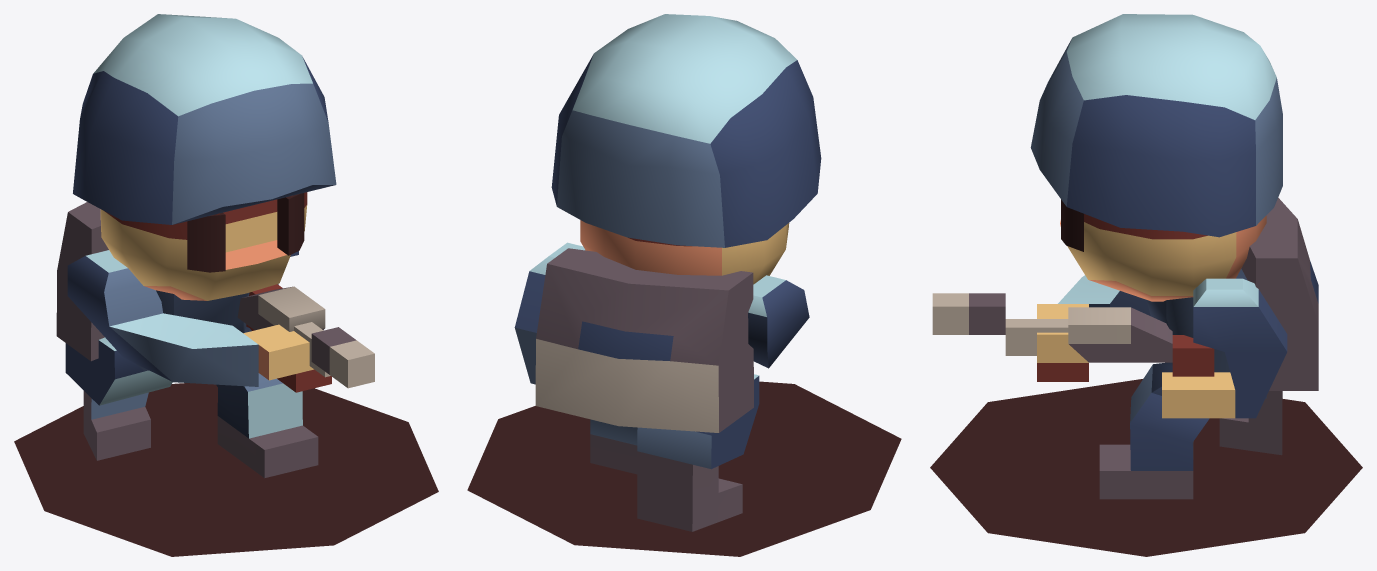
The model's file is InfantryMesh.SilverClaw.glb.
3 views of the same model, side by side, from view 1: azimuth 30°, elevation 25°; view 2: azimuth 150°, elevation 25°; view 3: azimuth 270°, elevation 25° (orthographic). The views are drawn at different scales.
Parts seen in each view (by area): view 1: InfantryMesh.SilverClaw; view 2: InfantryMesh.SilverClaw; view 3: InfantryMesh.SilverClaw.
Part boxes in pixels (x1,y1,x2,y2): InfantryMesh.SilverClaw: (14,14,438,556); InfantryMesh.SilverClaw: (467,14,901,556); InfantryMesh.SilverClaw: (930,14,1362,556).
Size of the model in its own units: 2.03 by 2.3 by 2.07.
Materials: 1 (1 with a texture image).
